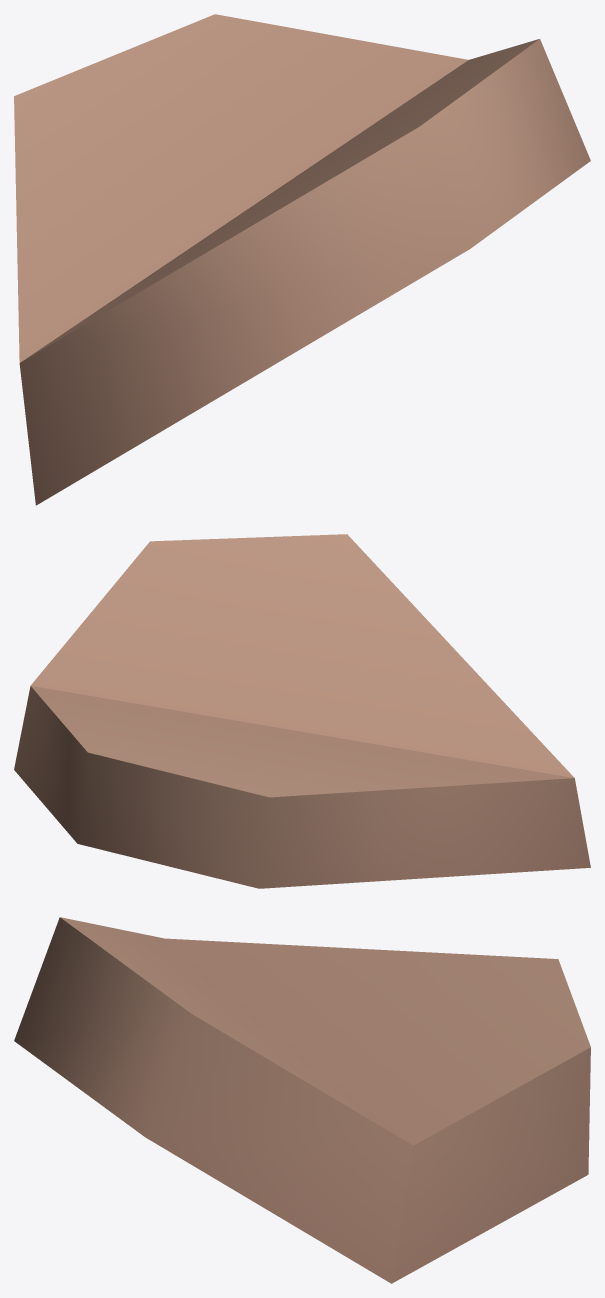
Rendered from (%no-merge) 37.glb.
3 renders of one model, top to bottom at view 1: azimuth 30°, elevation 25°; view 2: azimuth 150°, elevation 25°; view 3: azimuth 270°, elevation 25°, orthographic. The views are drawn at different scales.
Parts seen in each view (by area): view 1: (%no-merge) 37; view 2: (%no-merge) 37; view 3: (%no-merge) 37.
Part boxes in pixels (<box>): (%no-merge) 37: <box>14,14,590,505</box>; (%no-merge) 37: <box>14,534,590,888</box>; (%no-merge) 37: <box>14,917,590,1283</box>.
Size of the model in its own units: 0.1689 by 0.0845 by 0.1403.
